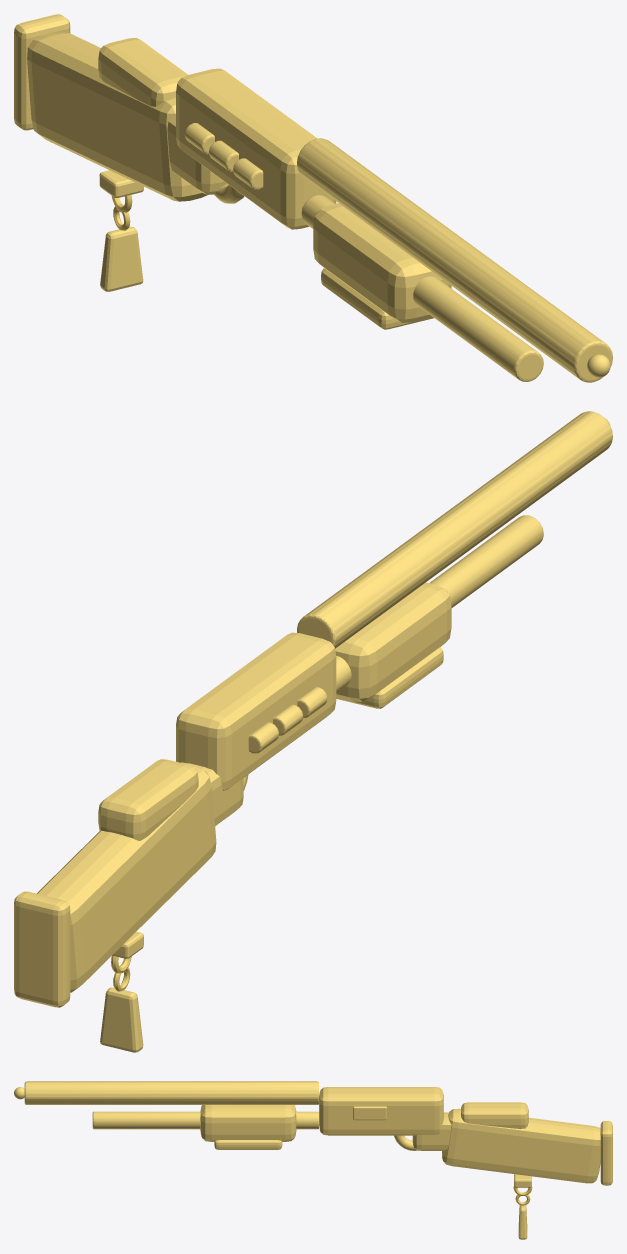
Rendered from shotgun_gold.glb.
3 views of the same model, one above another, from view 1: azimuth 30°, elevation 25°; view 2: azimuth 150°, elevation 25°; view 3: azimuth 270°, elevation 25° (orthographic). The views are drawn at different scales.
Parts seen in each view (by area): view 1: WPN_Shotgun_Barrel_Gold.001, WPN_Shotgun_Stock_Gold.001, WPN_Shotgun_Receiver_Gold.001, WPN_Shotgun_Pump_Gold.001, WPN_Shotgun_MagTube_Gold.001, WPN_Shotgun_Cheek_Gold.001, WPN_Shotgun_ButtPad_Gold.001, WPN_Shotgun_GoldBar.001, WPN_Shotgun_GripWrist_Gold.001, WPN_Shotgun_PumpRib_Gold.001, WPN_Shotgun_MountPlate.001, WPN_Shotgun_Shell2_Gold.001 (+2 smaller); view 2: WPN_Shotgun_Barrel_Gold.001, WPN_Shotgun_Stock_Gold.001, WPN_Shotgun_Receiver_Gold.001, WPN_Shotgun_Pump_Gold.001, WPN_Shotgun_ButtPad_Gold.001, WPN_Shotgun_Cheek_Gold.001, WPN_Shotgun_MagTube_Gold.001, WPN_Shotgun_GoldBar.001, WPN_Shotgun_PumpRib_Gold.001, WPN_Shotgun_GripWrist_Gold.001; view 3: WPN_Shotgun_Stock_Gold.001, WPN_Shotgun_Barrel_Gold.001, WPN_Shotgun_Receiver_Gold.001, WPN_Shotgun_Pump_Gold.001, WPN_Shotgun_MagTube_Gold.001, WPN_Shotgun_Cheek_Gold.001, WPN_Shotgun_ButtPad_Gold.001, WPN_Shotgun_GripWrist_Gold.001, WPN_Shotgun_PumpRib_Gold.001, WPN_Shotgun_Eject_Gold.001, WPN_Shotgun_GoldBar.001, WPN_Shotgun_MountPlate.001.
Part boxes in pixels (box(x1,y1,x2,y2)): WPN_Shotgun_Barrel_Gold.001: box(297, 138, 612, 382); WPN_Shotgun_Stock_Gold.001: box(27, 32, 207, 201); WPN_Shotgun_Receiver_Gold.001: box(176, 68, 336, 229); WPN_Shotgun_Pump_Gold.001: box(313, 203, 451, 322); WPN_Shotgun_MagTube_Gold.001: box(301, 195, 543, 381); WPN_Shotgun_Cheek_Gold.001: box(98, 38, 187, 106); WPN_Shotgun_ButtPad_Gold.001: box(14, 14, 70, 130); WPN_Shotgun_GoldBar.001: box(100, 226, 143, 291); WPN_Shotgun_GripWrist_Gold.001: box(167, 116, 227, 194); WPN_Shotgun_PumpRib_Gold.001: box(321, 268, 433, 329); WPN_Shotgun_MountPlate.001: box(99, 170, 143, 197); WPN_Shotgun_Shell2_Gold.001: box(233, 158, 263, 189); WPN_Shotgun_Barrel_Gold.001: box(297, 411, 612, 648); WPN_Shotgun_Stock_Gold.001: box(37, 765, 216, 992); WPN_Shotgun_Receiver_Gold.001: box(176, 632, 336, 790); WPN_Shotgun_Pump_Gold.001: box(335, 582, 451, 702); WPN_Shotgun_ButtPad_Gold.001: box(14, 891, 70, 1007); WPN_Shotgun_Cheek_Gold.001: box(98, 759, 198, 840); WPN_Shotgun_MagTube_Gold.001: box(336, 515, 543, 692); WPN_Shotgun_GoldBar.001: box(100, 987, 143, 1052); WPN_Shotgun_PumpRib_Gold.001: box(336, 647, 443, 708); WPN_Shotgun_GripWrist_Gold.001: box(181, 762, 243, 825); WPN_Shotgun_Stock_Gold.001: box(442, 1108, 600, 1183); WPN_Shotgun_Barrel_Gold.001: box(24, 1081, 318, 1104); WPN_Shotgun_Receiver_Gold.001: box(319, 1087, 443, 1135); WPN_Shotgun_Pump_Gold.001: box(200, 1105, 296, 1141); WPN_Shotgun_MagTube_Gold.001: box(92, 1111, 318, 1129); WPN_Shotgun_Cheek_Gold.001: box(460, 1102, 528, 1128); WPN_Shotgun_ButtPad_Gold.001: box(600, 1121, 612, 1185); WPN_Shotgun_GripWrist_Gold.001: box(412, 1112, 451, 1150); WPN_Shotgun_PumpRib_Gold.001: box(214, 1140, 282, 1149); WPN_Shotgun_Eject_Gold.001: box(353, 1106, 386, 1120); WPN_Shotgun_GoldBar.001: box(518, 1205, 527, 1239); WPN_Shotgun_MountPlate.001: box(514, 1174, 531, 1187).
Bounding box in the file's own units: 0.0756 × 0.2978 × 1.06.
